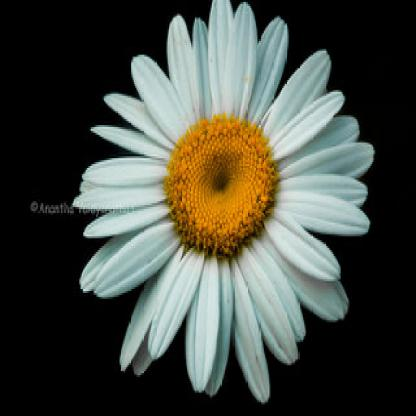ASTER: (71, 15, 381, 407)
